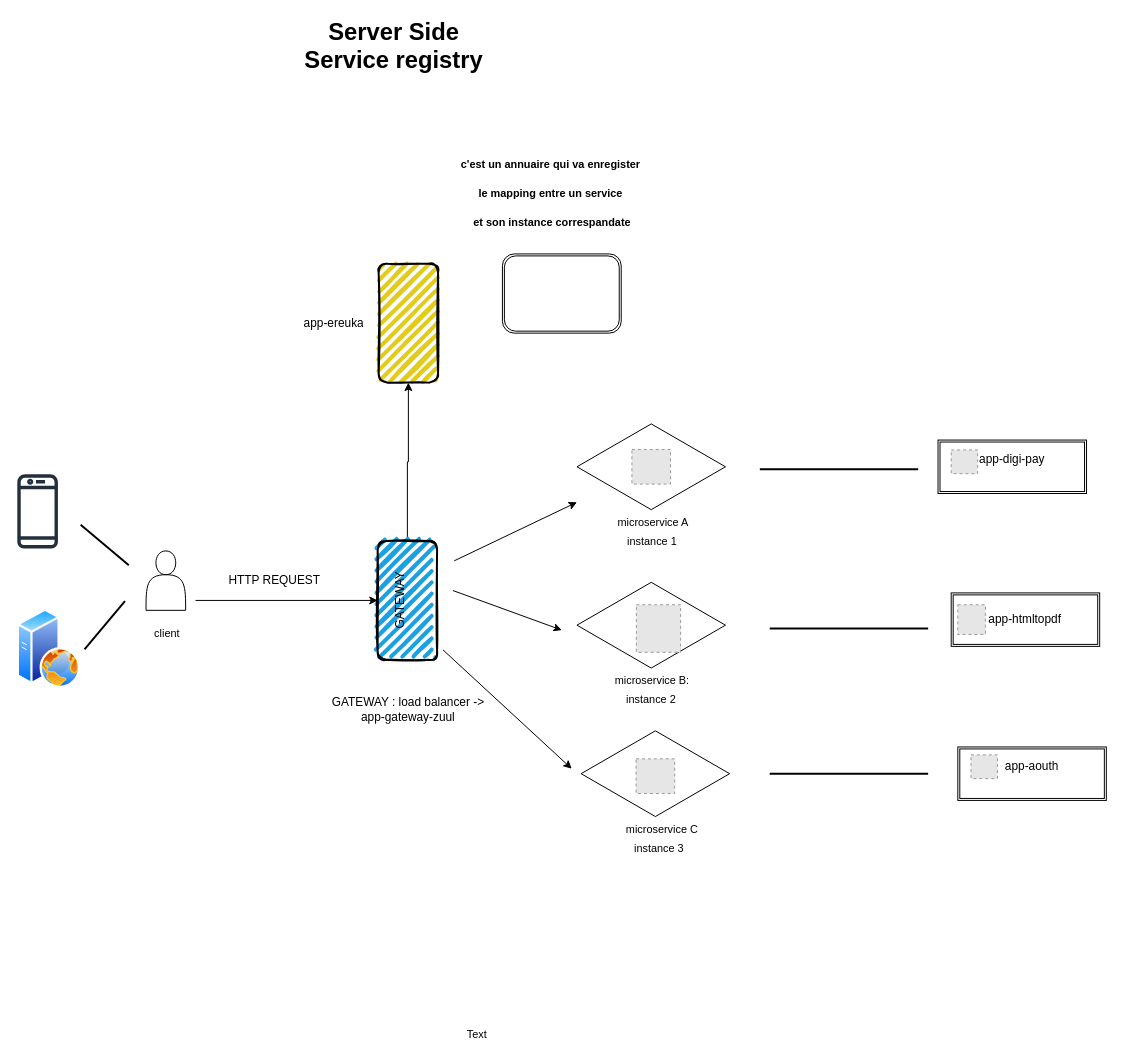
This 1124x1057 diagram has some shape labels left out. Grey dashed boxes stand in for pictures. The centre of each missing label's shape, as x and y in pixels:
"instance 1 service A instace 2 service B instance 3 service C" belongs at (561,293).
"SERVICE REGISTERY" belongs at (408,322).
